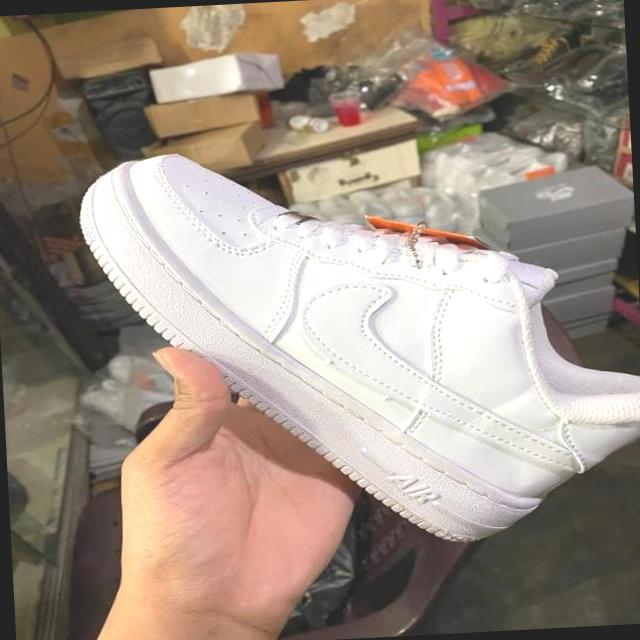nike_fake_airforce: (67, 126, 640, 565)
